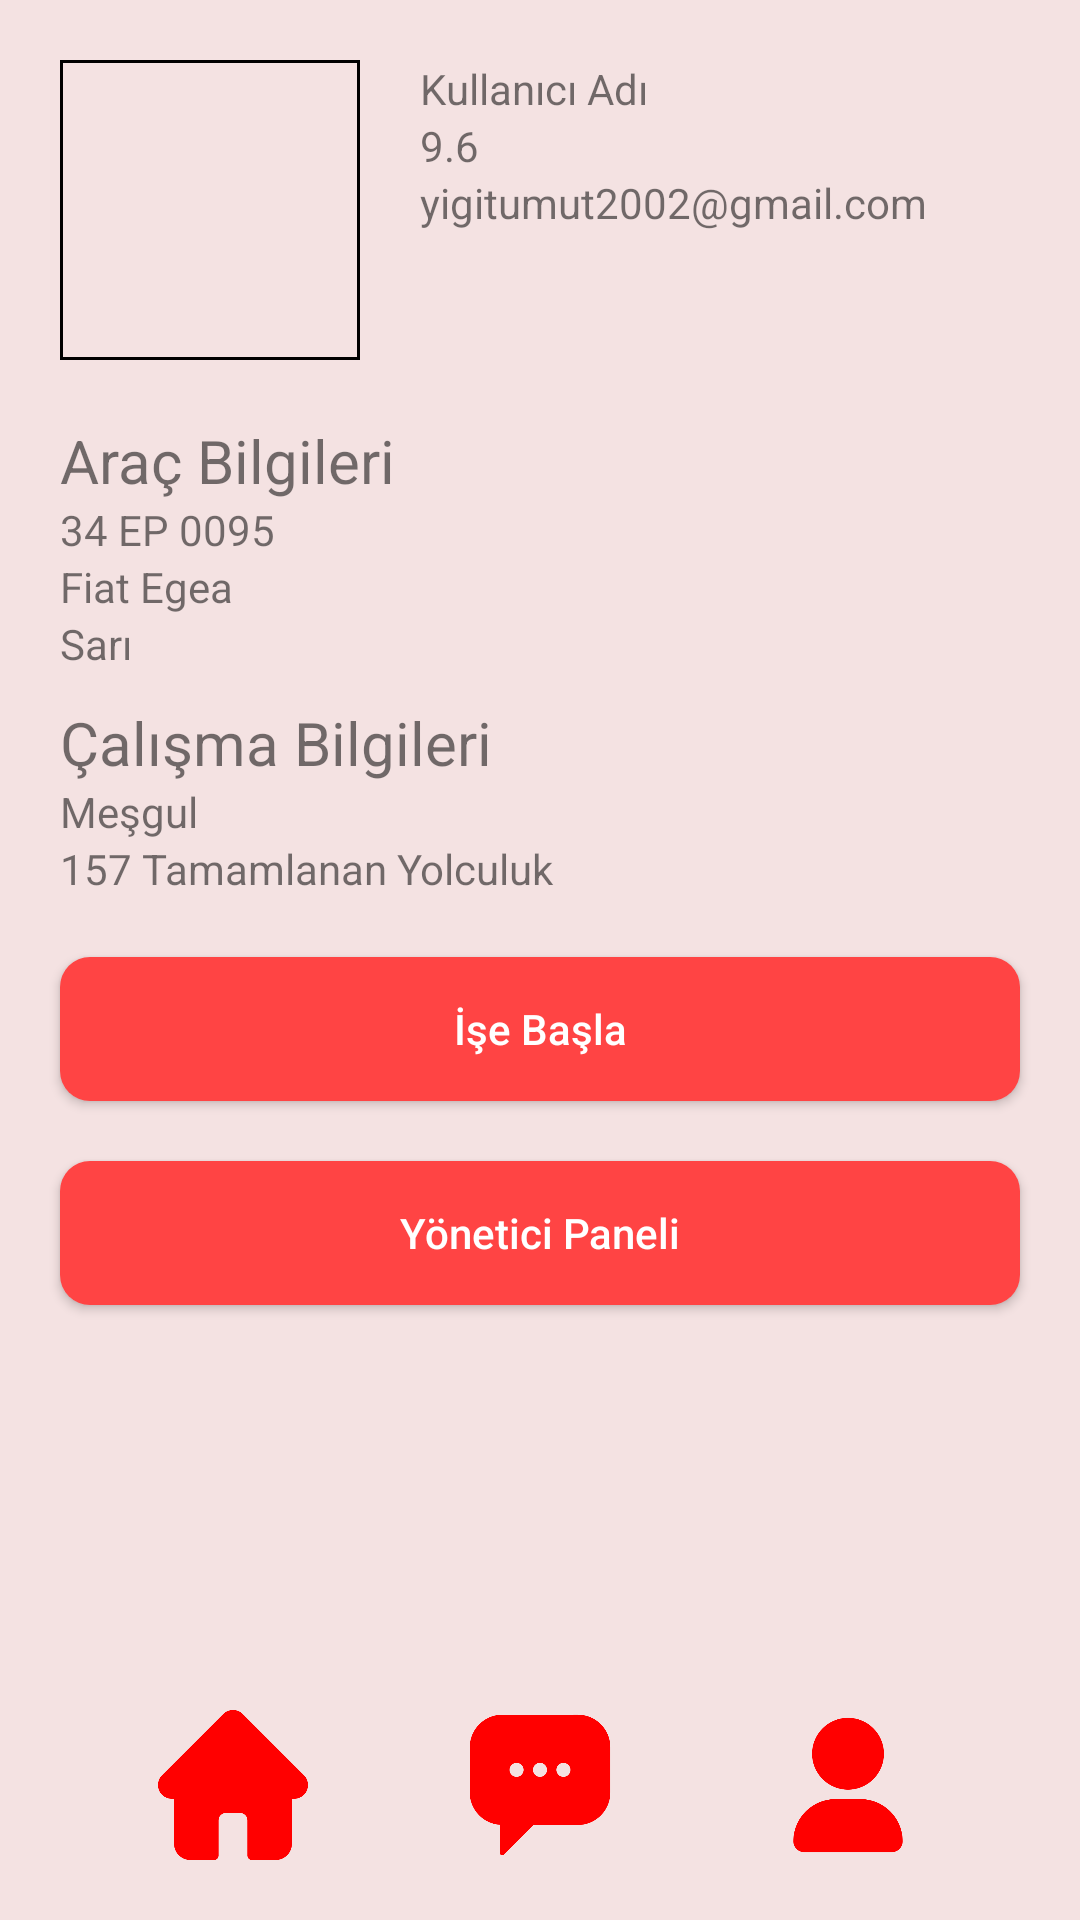

Icons on this 1080px x 1920px Android screen, each with its box as (x1, y1, x2, y2):
chat: (470, 1715, 610, 1855)
home: (158, 1710, 308, 1860)
profile: (793, 1718, 903, 1852)
